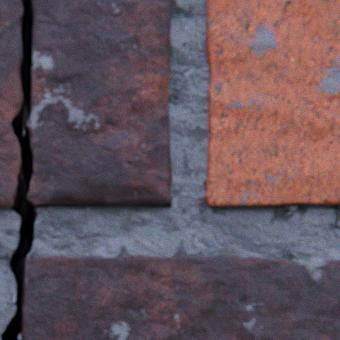brick: (205, 0, 339, 208), (21, 255, 339, 339)
broken_brick: (26, 0, 173, 207), (0, 0, 23, 206)
crack: (1, 0, 37, 339)
